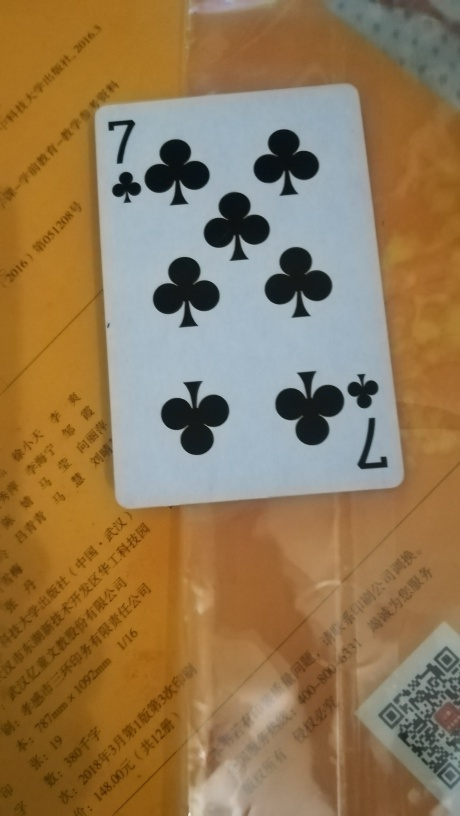mh 7: (85, 81, 409, 511)
